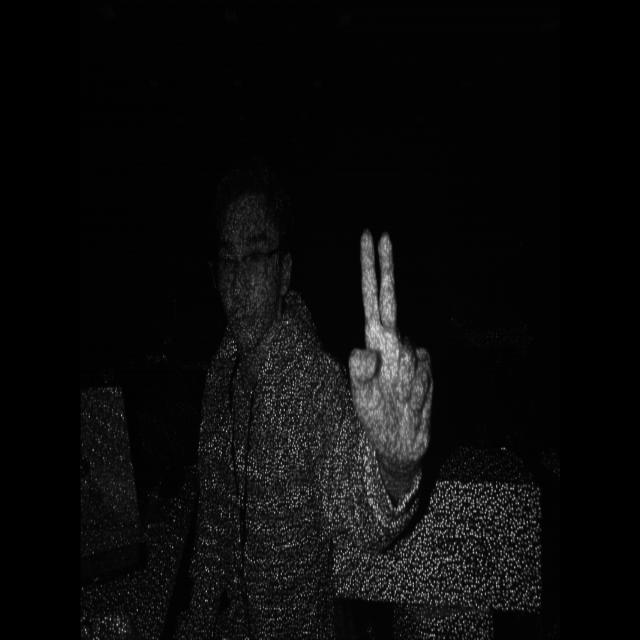U: (340, 214, 462, 514)
